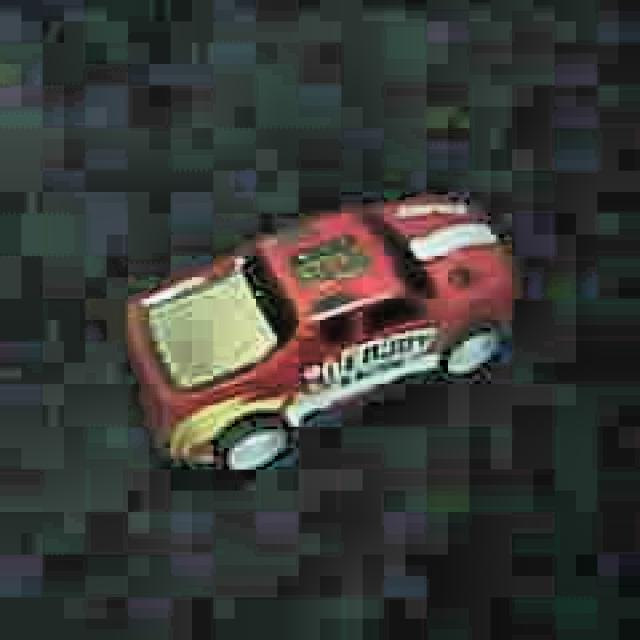car: (121, 187, 517, 475)
